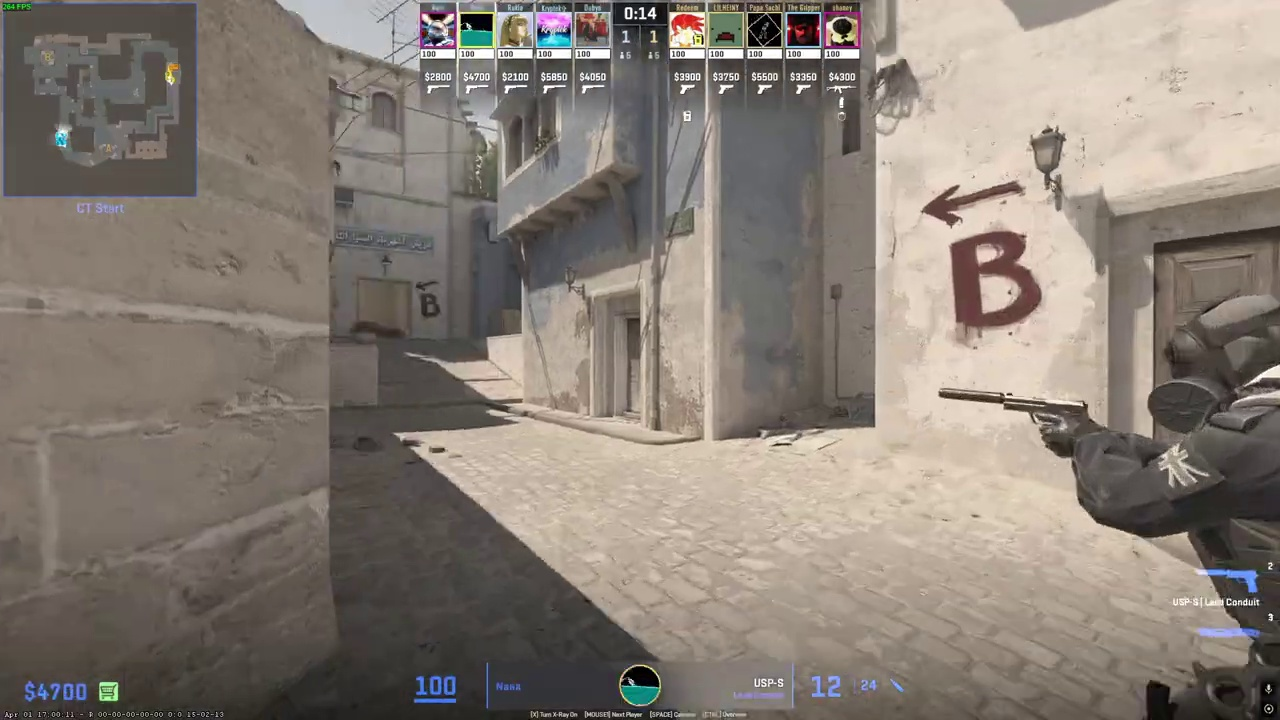CT: (1118, 294, 1280, 720)
